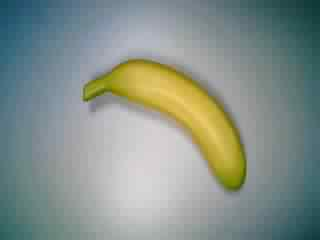banana: (79, 54, 253, 192)
